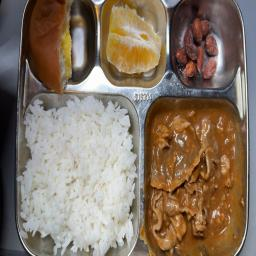100_beef: (147, 105, 239, 251)
100_orange: (103, 4, 162, 76)
100_rice: (23, 95, 134, 253)
50_bread: (29, 0, 96, 85)
50_nuts: (175, 8, 231, 84)
